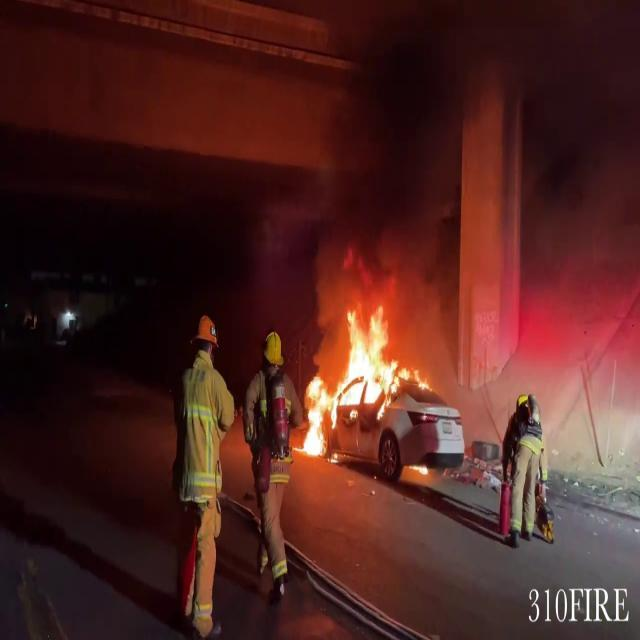Fire: (294, 297, 414, 456)
Smoke: (307, 0, 507, 307)
